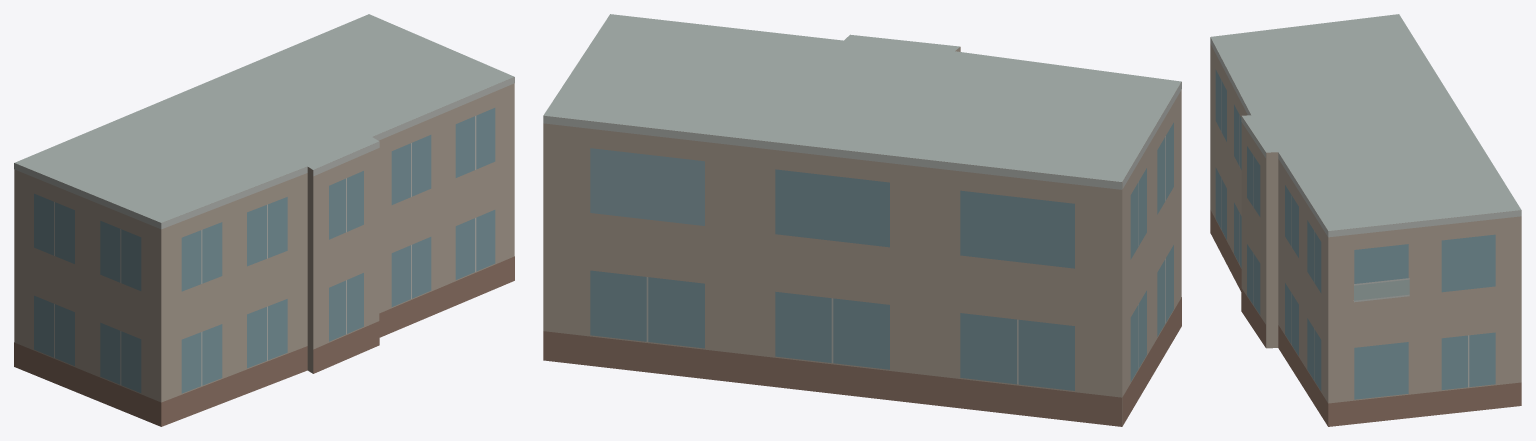
File: survey-upis-32616402.glb
The picture shows the model from 3 angles, left to right: view 1: azimuth 30°, elevation 25°; view 2: azimuth 150°, elevation 25°; view 3: azimuth 270°, elevation 25°; orthographic projection. The views are drawn at different scales.
Parts seen in each view (by area): view 1: survey-upis-32616402.tmp; view 2: survey-upis-32616402.tmp; view 3: survey-upis-32616402.tmp.
Boxes of the visible parts, left/top/right/bottom form: survey-upis-32616402.tmp: left=14, top=14, right=514, bottom=426; survey-upis-32616402.tmp: left=543, top=14, right=1181, bottom=426; survey-upis-32616402.tmp: left=1210, top=14, right=1521, bottom=426.
Bounding box in the file's own units: 18.33 × 7.7 × 11.11.
